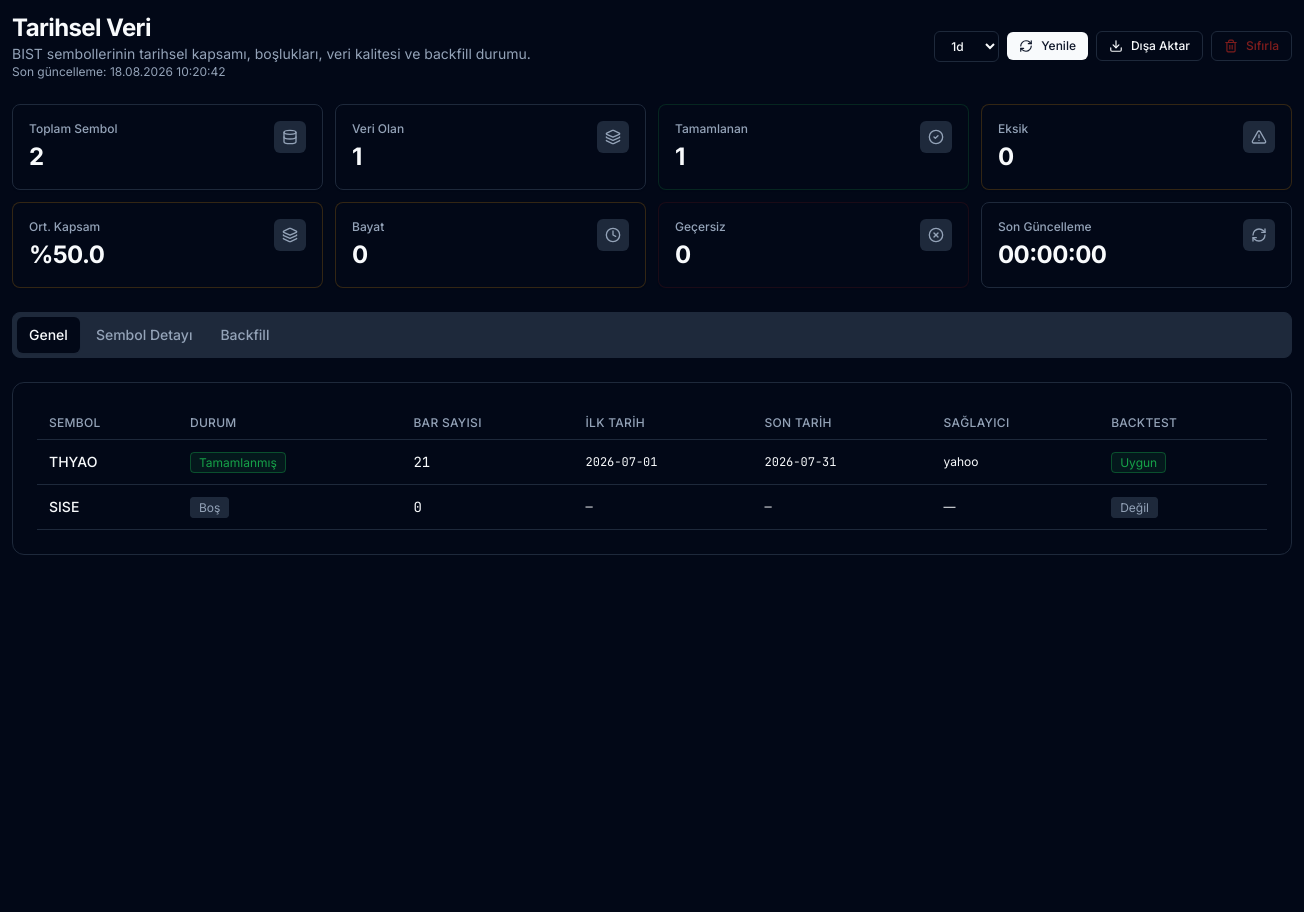
HistoryPage › selecting a symbol row loads symbol detail and switches tab
Expected: the text "Toplam Sembol" is shown, x1=29 y1=121 x2=117 y2=137
Click the row with test id "history-row-THYAO".
click(652, 462)  # box x1=37 y1=440 x2=1267 y2=484
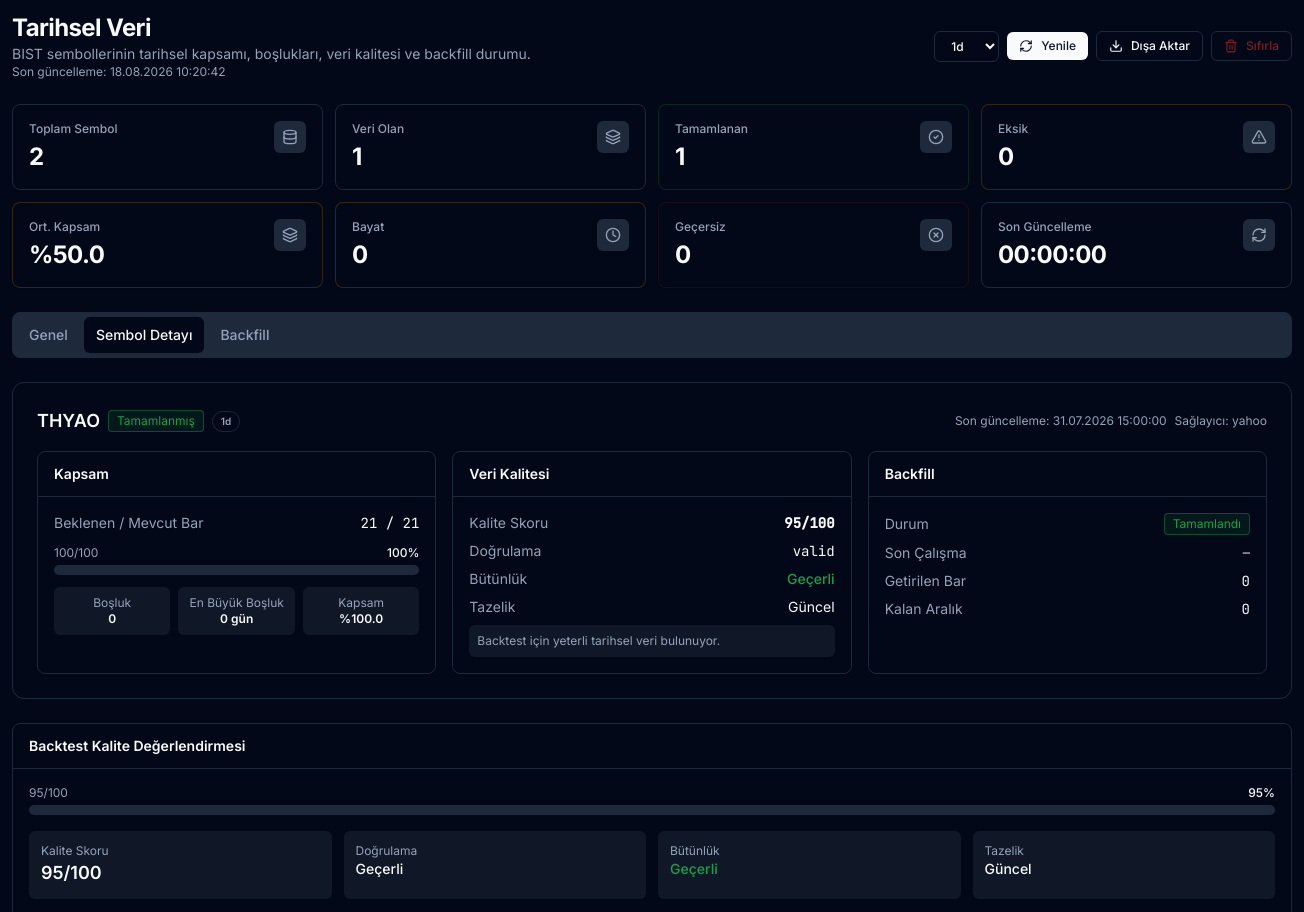
Result: the text "Beklenen / Mevcut Bar" is shown at x1=54 y1=513 x2=203 y2=533
